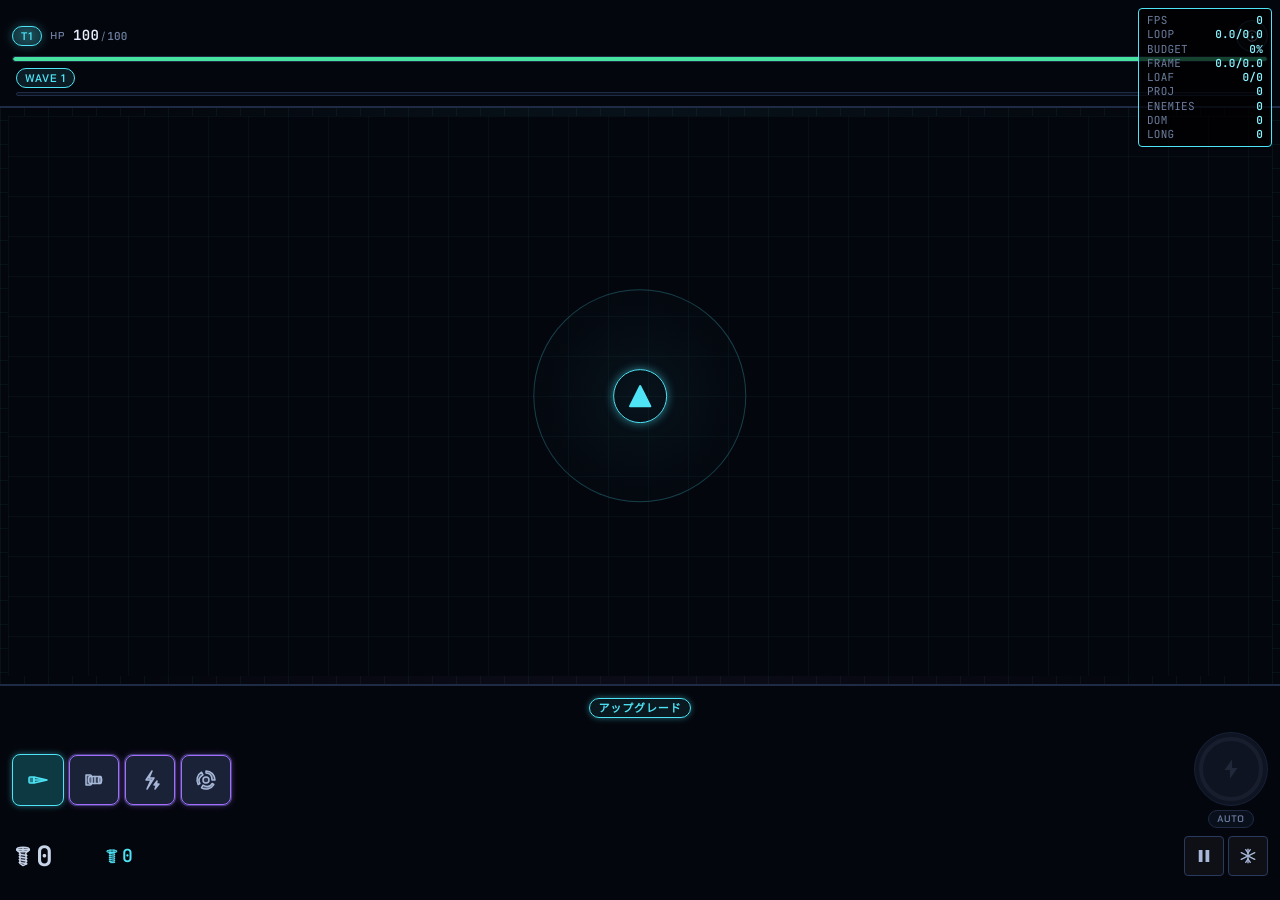
finalizeRun — 撤退フロー › 撤退後に ResultDialog が表示される
The image size is (1280, 900).
What coordinates should you click on to do the following:
click the button named "一時停止 (メニューを開く)"
I would click on:
 (1204, 856)
Its box is top-left (1184, 836), bottom-right (1224, 876).
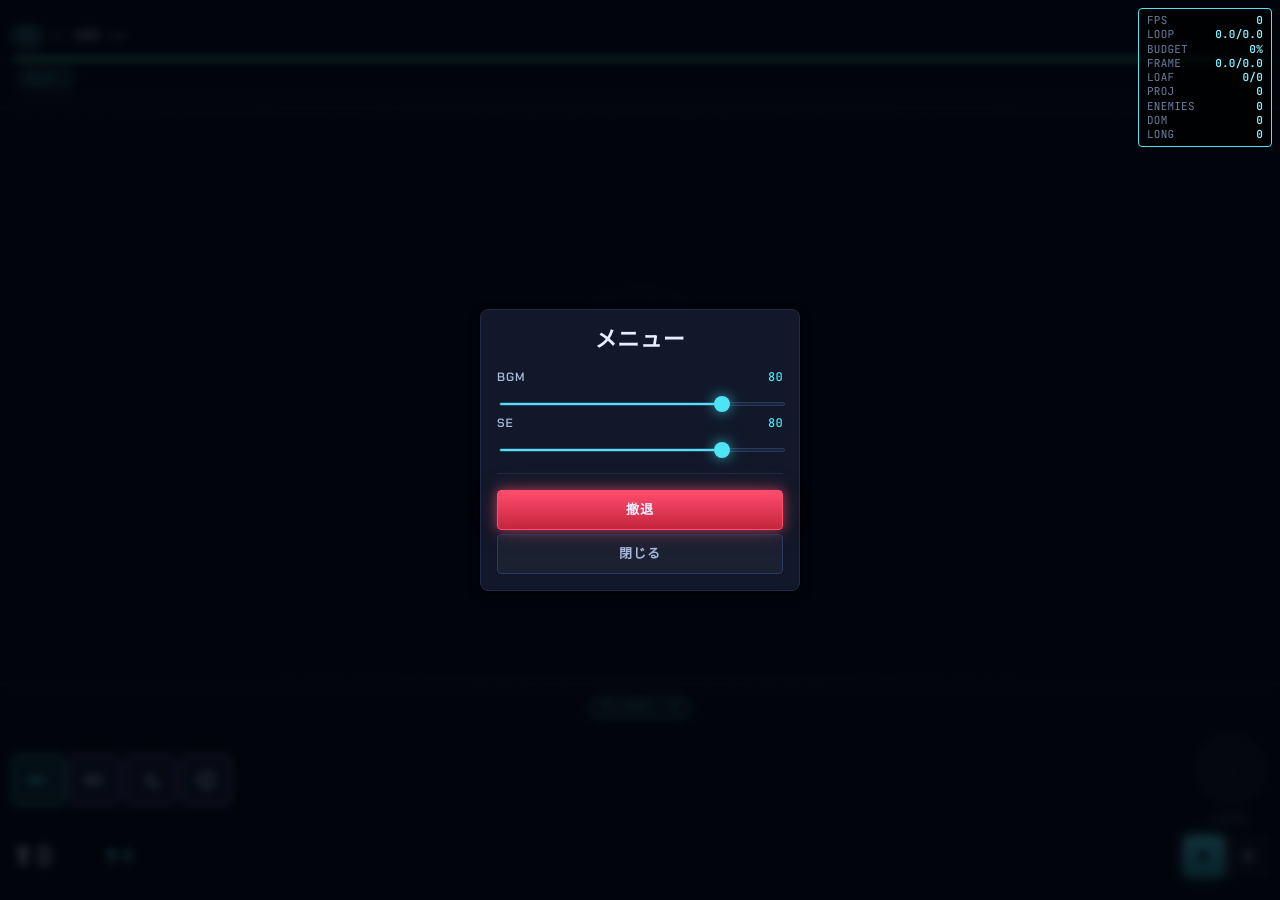
What coordinates should you click on to do the following:
click the button "撤退"
I would click on:
 (640, 510)
Its box is top-left (497, 490), bottom-right (783, 530).
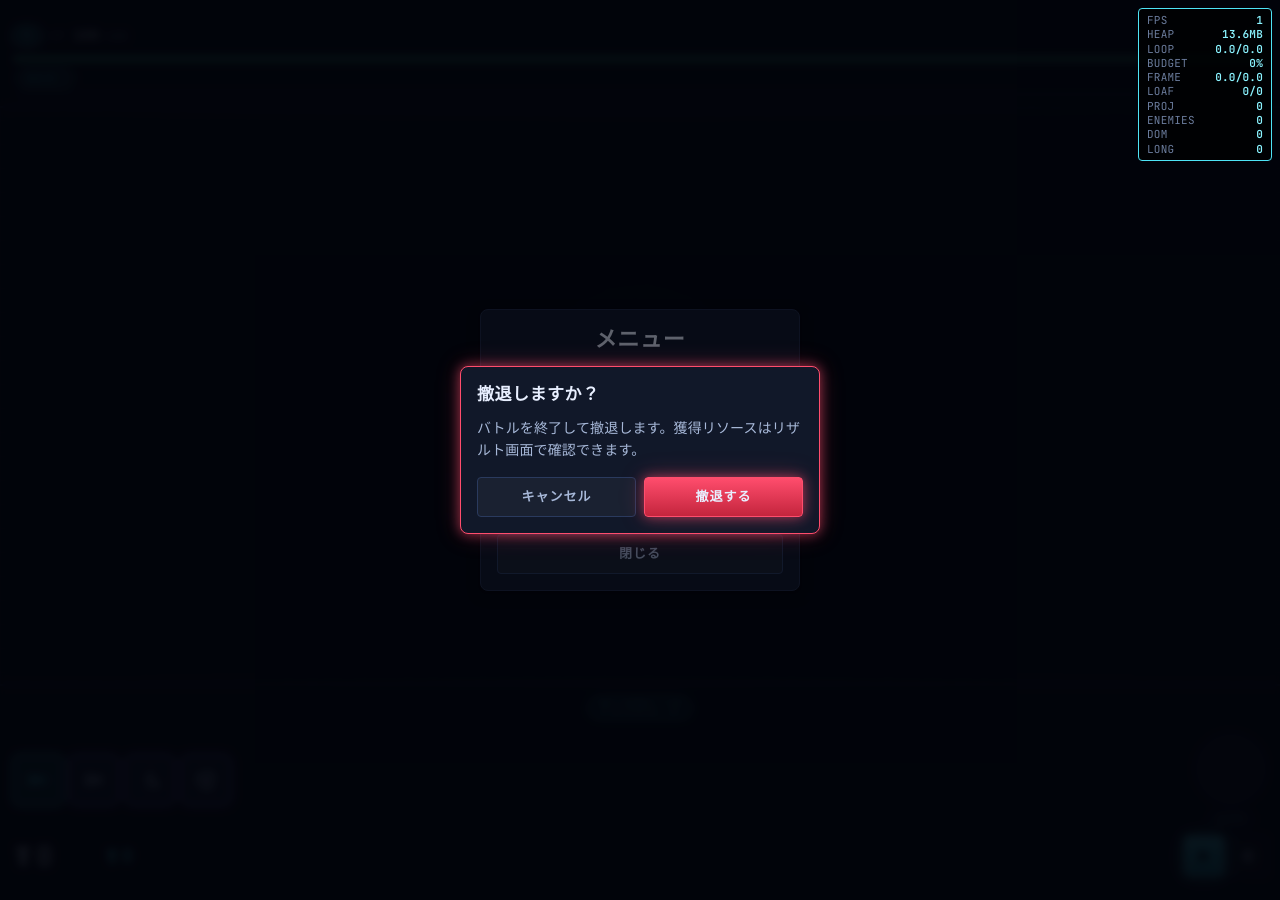
What coordinates should you click on to do the following:
click the button "撤退する"
I would click on:
 (724, 497)
Its box is top-left (644, 477), bottom-right (803, 517).
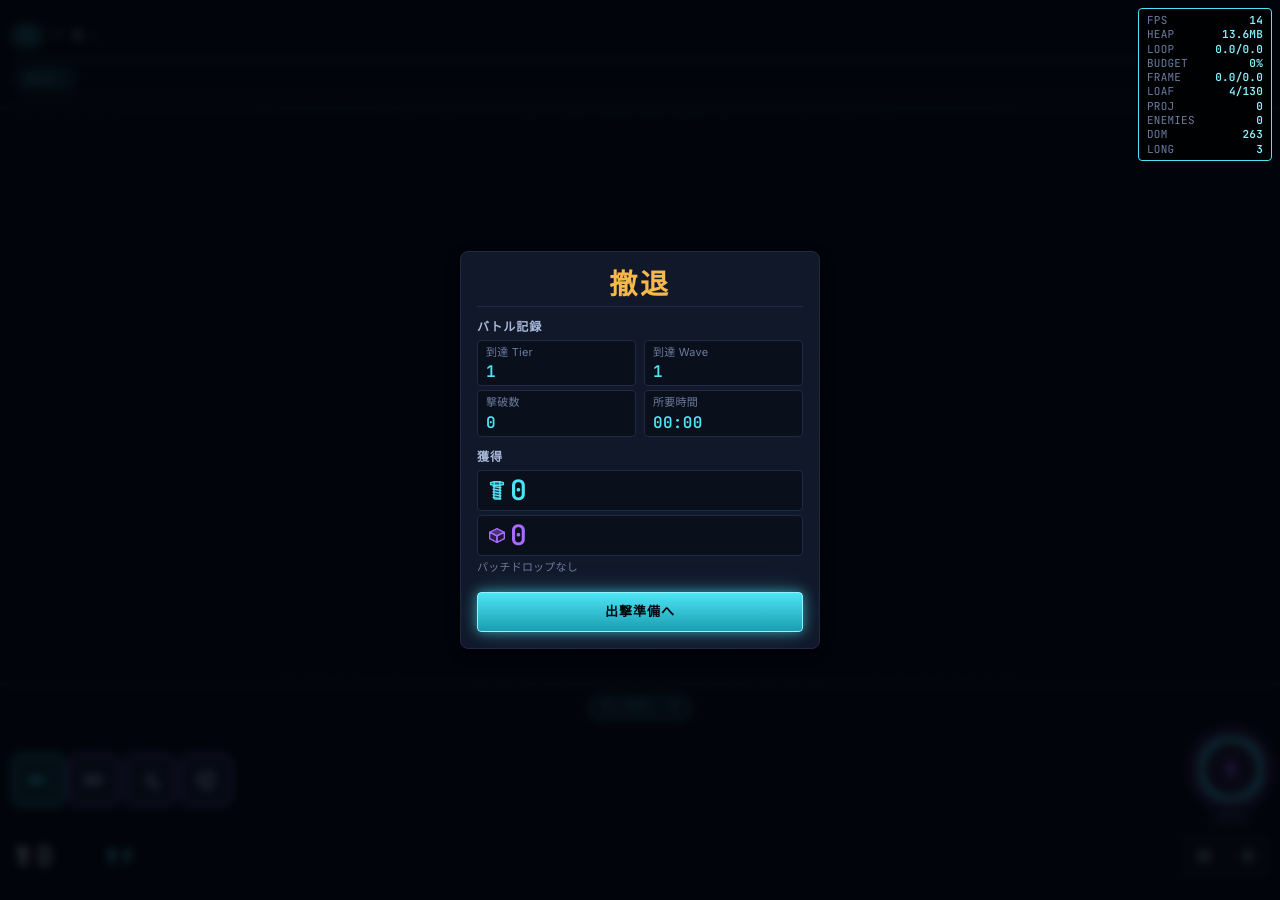
expect the button "出撃準備へ" is shown: met, box top-left (477, 592), bottom-right (803, 632)
